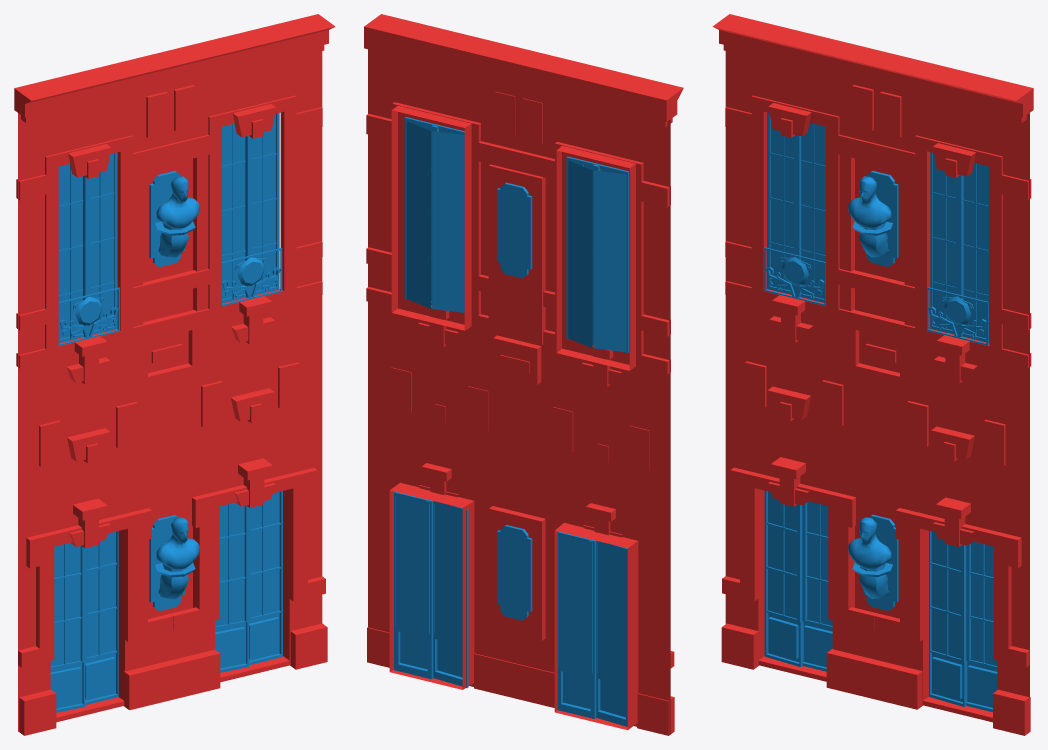
The model's file is palace_wall_B.fbx.
The picture shows the model from 3 angles, left to right: view 1: azimuth 30°, elevation 25°; view 2: azimuth 150°, elevation 25°; view 3: azimuth 330°, elevation 25°; orthographic projection.
Visible parts, largest first — view 1: wall, window_and_statue; view 2: wall, window_and_statue; view 3: wall, window_and_statue.
Boxes of the visible parts, x1=… form: wall: x1=14, y1=14, x2=335, y2=735; window_and_statue: x1=50, y1=112, x2=282, y2=712; wall: x1=364, y1=14, x2=683, y2=735; window_and_statue: x1=394, y1=117, x2=628, y2=726; wall: x1=712, y1=14, x2=1033, y2=735; window_and_statue: x1=764, y1=112, x2=997, y2=712.
Size of the model in its own units: 400 by 806 by 61.53.
